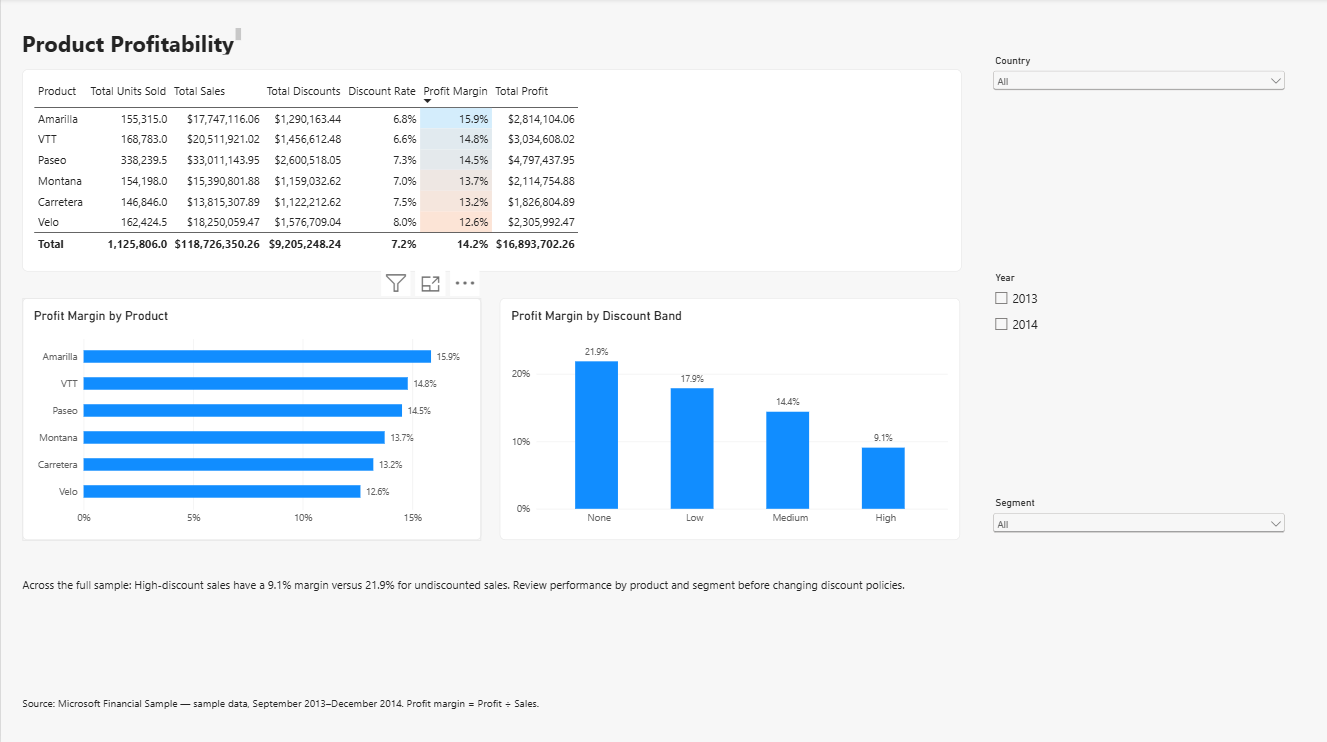

Layout of this report page (visuals, bound fields, positions):
{"tool":"powerbi","page":{"name":"Product Analysis","canvas":[1920,1080],"ordinal":1},"visuals":[{"type":"tableEx","fields":{"Values":["Sales.Product","Sales.Total Units Sold","Sales.Total Sales","Sales.Total Discounts","Sales.Discount Rate","Sales.Profit Margin","Sales.Total Profit"]},"box":[30,102.5,1360,292.5],"z":0},{"type":"slicer","fields":{"Values":["Sales.Country"]},"box":[1432,82,432,274],"z":1000},{"type":"slicer","fields":{"Values":["Date Table.Year"]},"box":[1432,396,432,274],"z":2000},{"type":"clusteredBarChart","title":"Profit Margin by Product","fields":{"Category":["Sales.Product"],"Y":["Sales.Profit Margin"]},"box":[30,435,665,350],"z":3000},{"type":"textbox","box":[30,43.3,316.7,38.3],"z":4000},{"type":"slicer","fields":{"Values":["Sales.Segment"]},"box":[1432,722,432,322],"z":5000},{"type":"clusteredColumnChart","title":"Profit Margin by Discount Band","fields":{"Category":["Sales.Discount Band"],"Y":["Sales.Profit Margin"]},"box":[722.5,435,666,350],"z":6000},{"type":"textbox","box":[30,1010,780,35],"z":7000},{"type":"textbox","box":[30,837.8,1360,172.2],"z":7001}]}

Visuals, with their boxes in screenshot pixels (x1, y1, x2, y2), scaled from the page's 1920x1080 canvas onto the 1327x742 screenshot:
tableEx - Sales.Product x Sales.Total Units Sold: (21,70,961,271)
slicer - Sales.Country: (990,56,1288,245)
slicer - Date Table.Year: (990,272,1288,460)
"Profit Margin by Product" clusteredBarChart: (21,299,480,539)
textbox: (21,30,240,56)
slicer - Sales.Segment: (990,496,1288,717)
"Profit Margin by Discount Band" clusteredColumnChart: (499,299,960,539)
textbox: (21,694,560,718)
textbox: (21,576,961,694)
